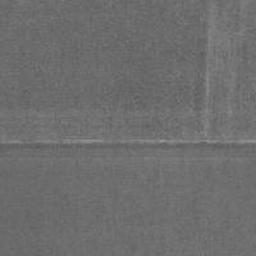Welding line: (0, 140, 256, 151)
